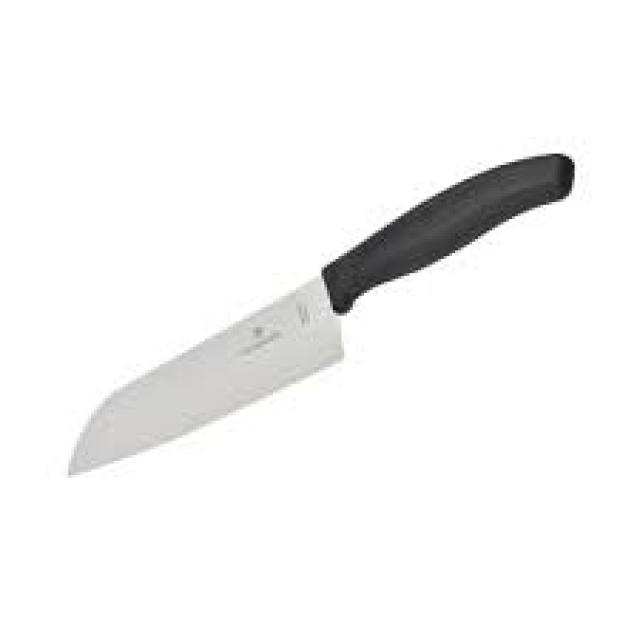Knife: (65, 154, 572, 475)
